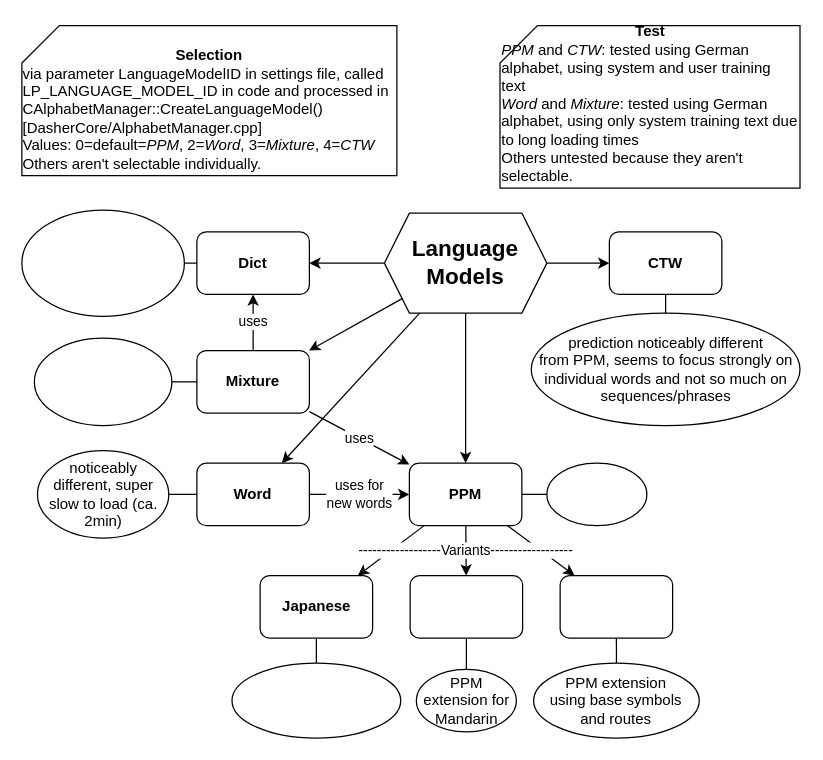
Image size: 823x760. Some labels were removed from this diagram. The shapes that lost their labels are listed below. From the top down, each one's box as (x1, y1, x2, y2) in pixels, then its label:
(21, 209, 184, 316): fixed dictionary of words from /usr/share/dict/words, cannot learn while writing
(33, 337, 172, 426): takes extremely long to load, didn't finish after 22min
(546, 462, 647, 526): old, default, fast
(409, 574, 523, 638): PPMPY
(559, 574, 673, 638): RoutingPPM
(231, 662, 401, 738): like PPM, with conversion functions for Japanese symbols
